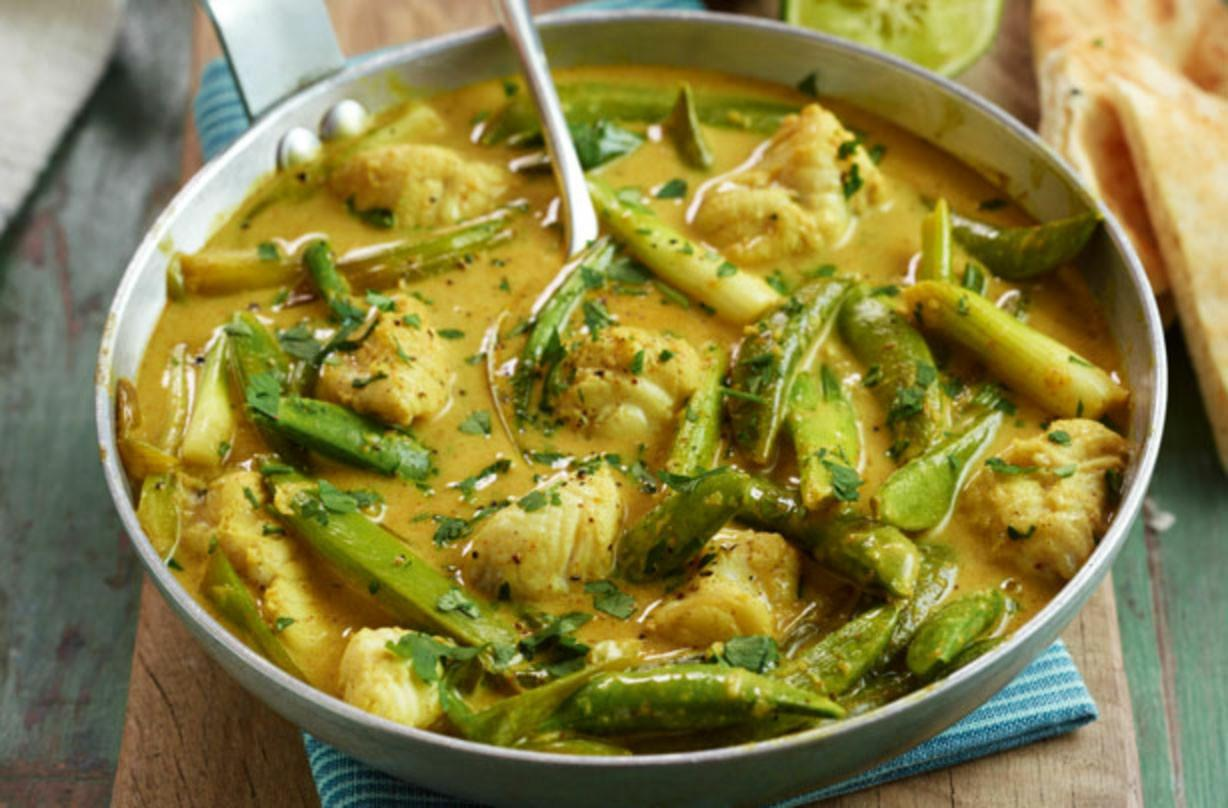FishCurry: (117, 66, 1134, 755)
